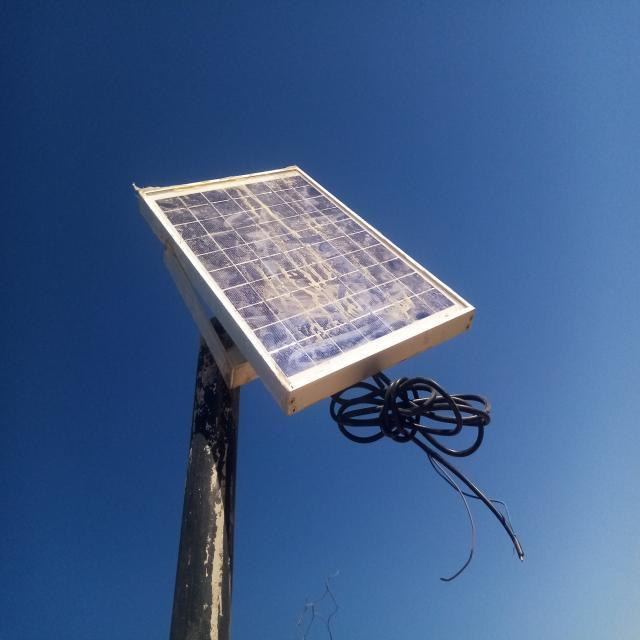faulty: (139, 167, 475, 391)
